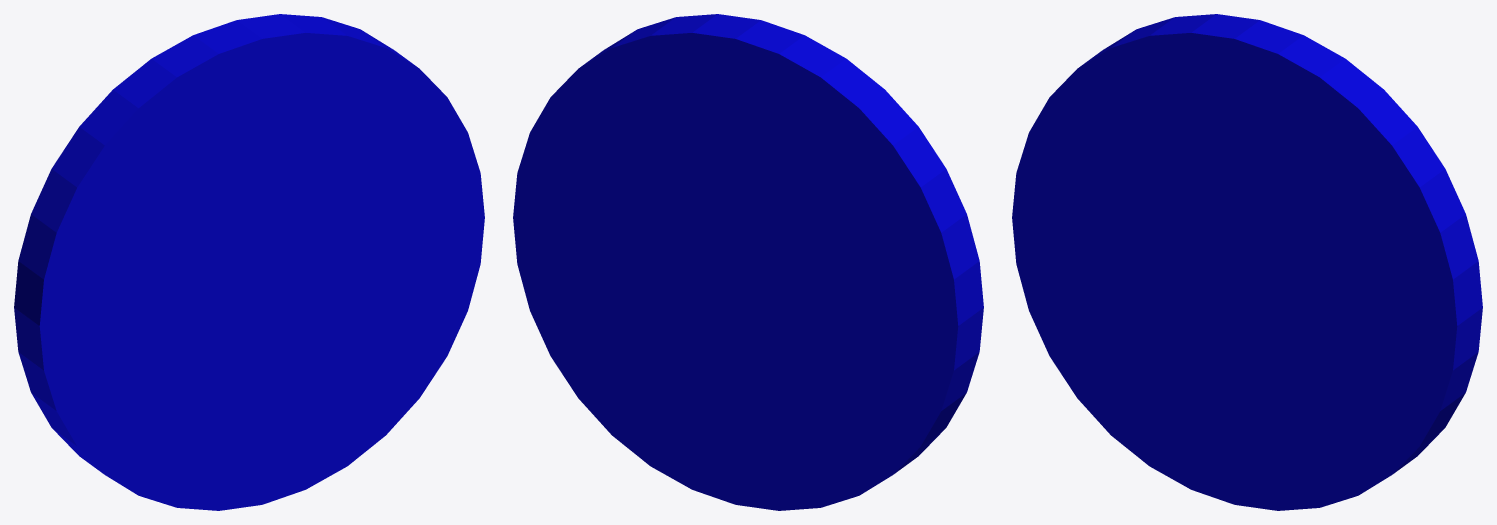
Rendered from blue_chess_coin.glb.
The picture shows the model from 3 angles, left to right: view 1: azimuth 30°, elevation 25°; view 2: azimuth 150°, elevation 25°; view 3: azimuth 330°, elevation 25°; orthographic projection.
Parts seen in each view (by area): view 1: world; view 2: world; view 3: world.
Part boxes in pixels (left/top/right/bottom): world: left=14, top=14, right=484, bottom=510; world: left=513, top=14, right=983, bottom=510; world: left=1012, top=14, right=1482, bottom=510.
Size of the model in its own units: 1 by 1 by 0.1.
